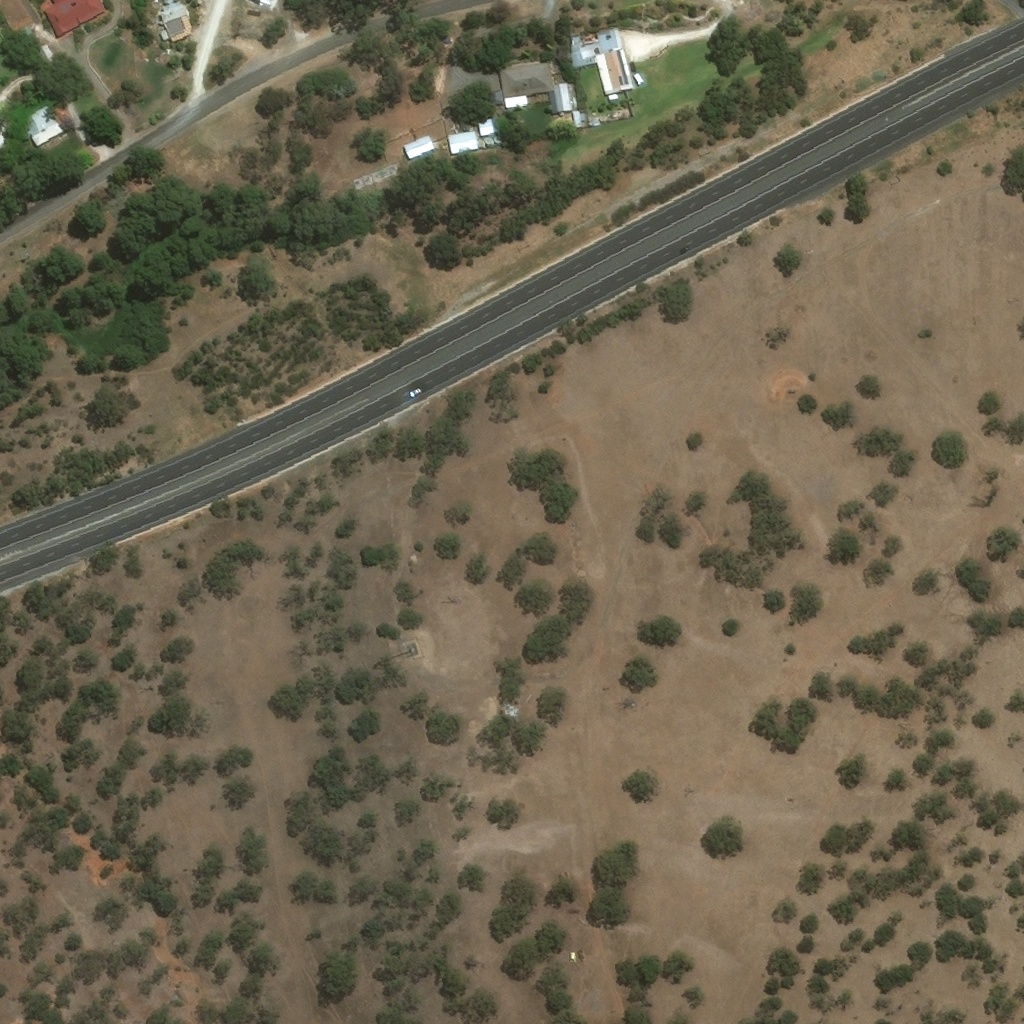0 no-damage: (566, 28, 634, 97), (498, 63, 569, 115), (42, 0, 107, 37), (18, 104, 63, 146), (156, 1, 193, 43), (445, 131, 478, 157), (400, 136, 434, 161), (475, 120, 493, 138), (157, 30, 168, 41), (606, 95, 616, 101)
